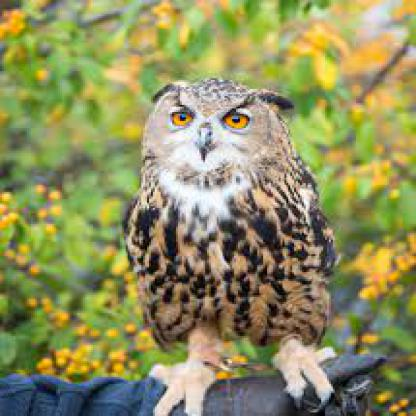owl: (52, 14, 414, 414)
